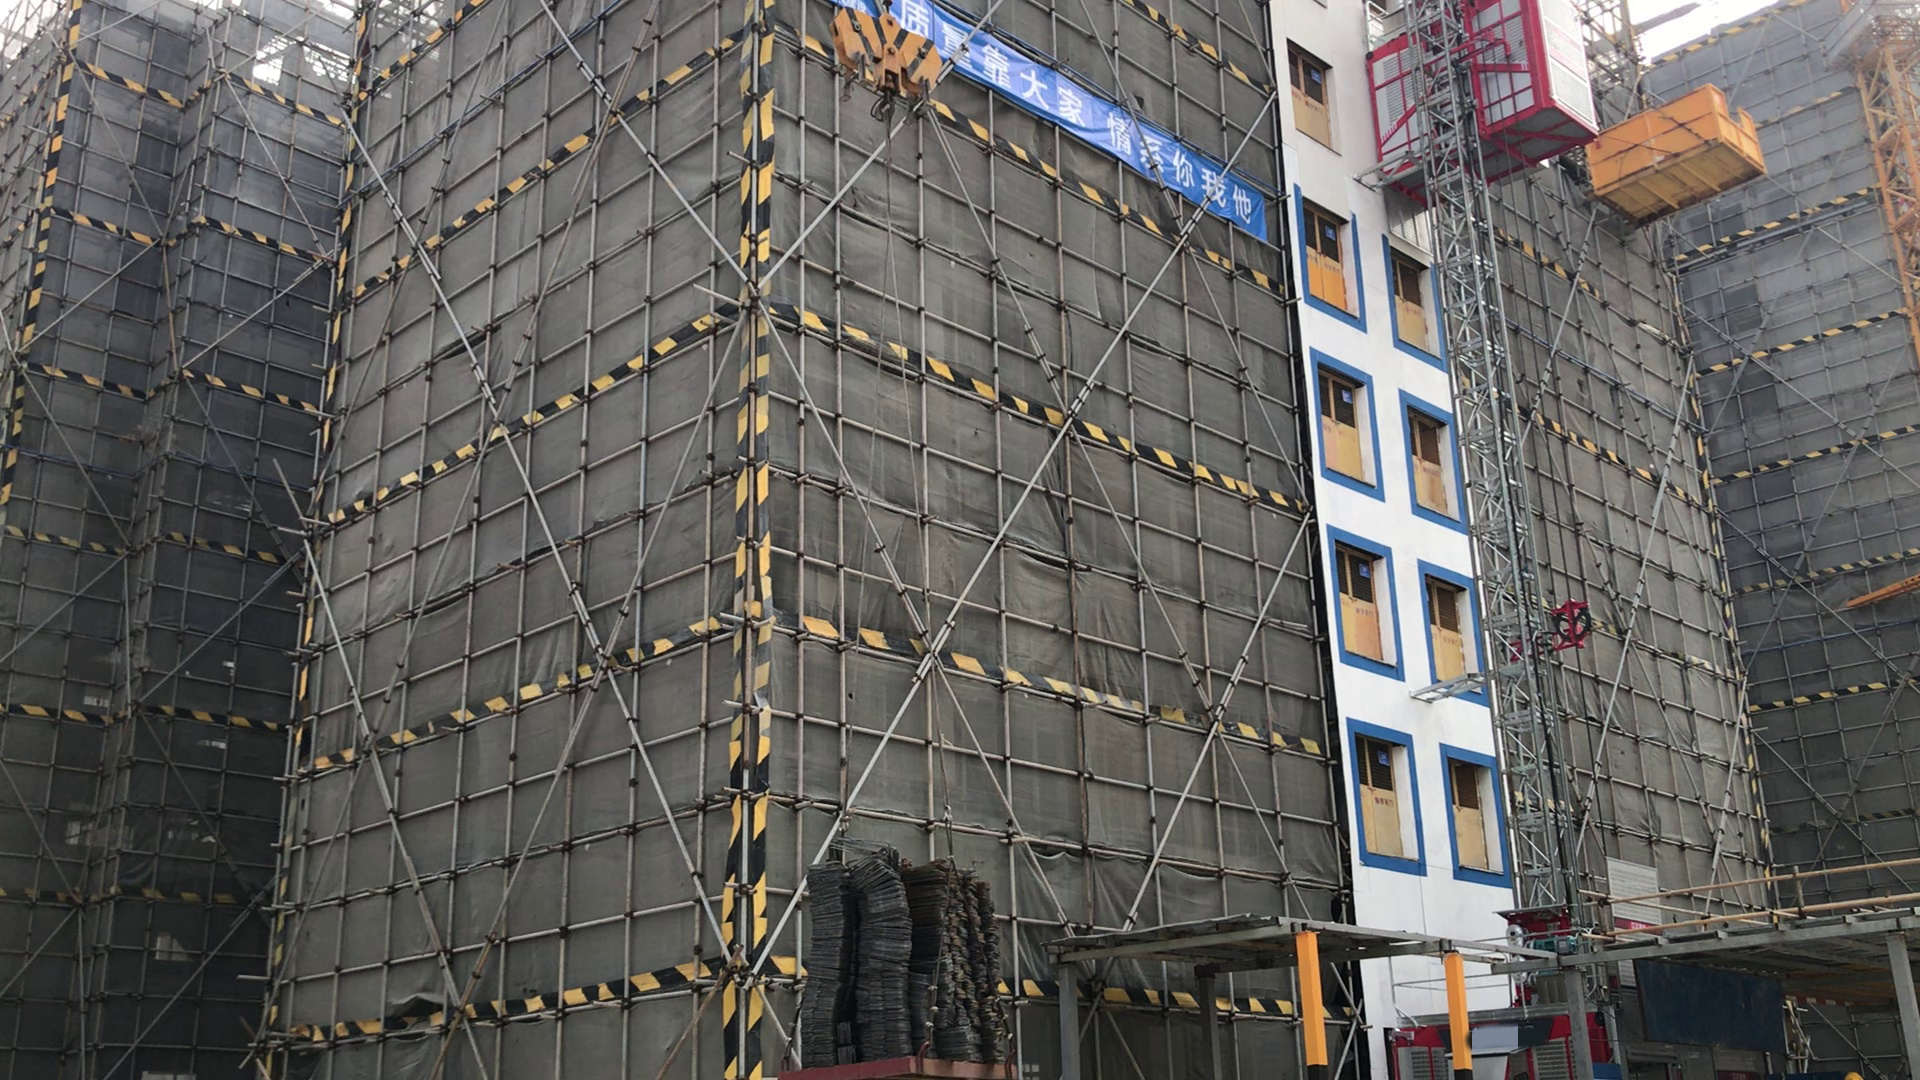helmet: (1844, 1073, 1863, 1080)
hook: (824, 9, 948, 121)
slogan: (889, 3, 1265, 245)
